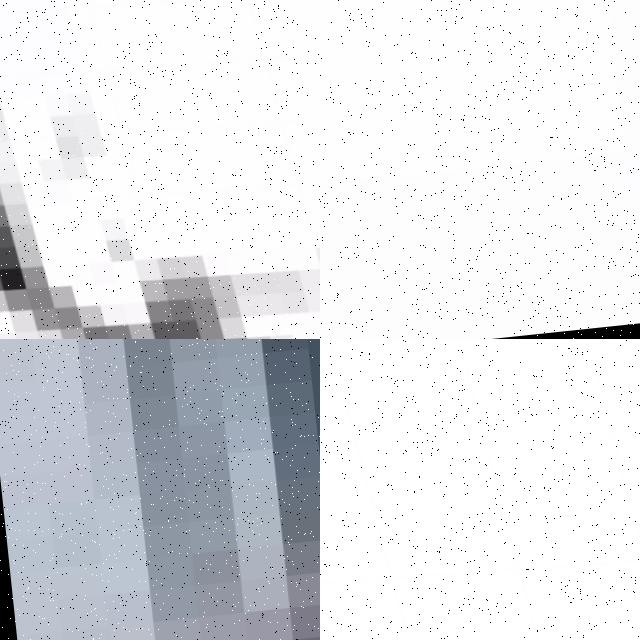drone: (0, 0, 320, 339), (320, 339, 640, 640)
